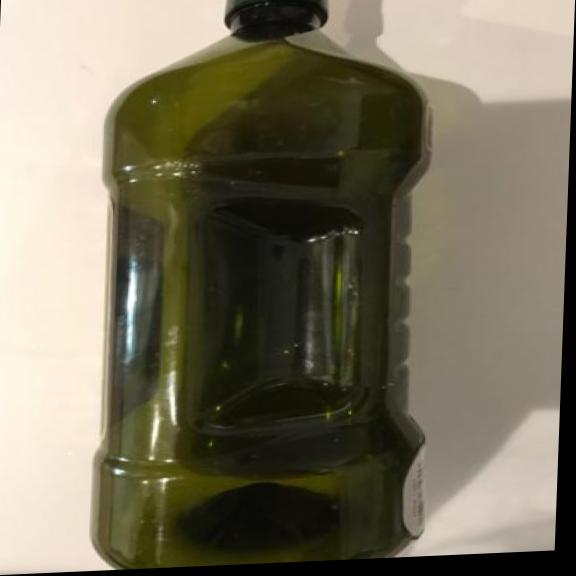Plastik: (73, 0, 476, 572)
